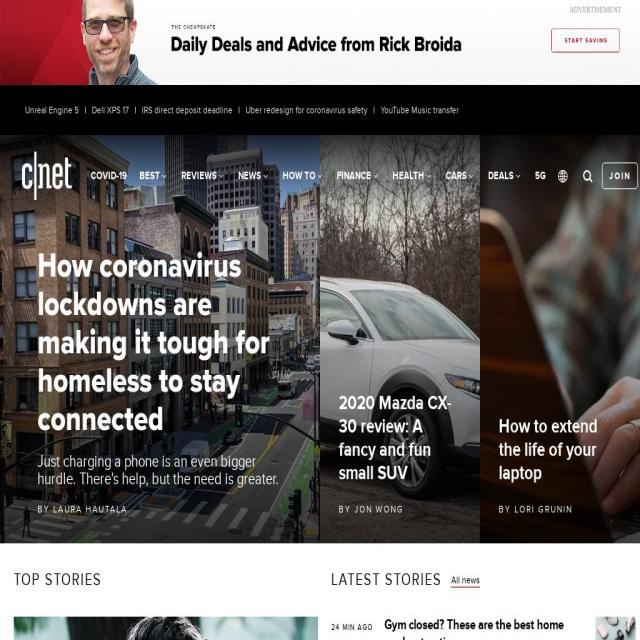button: (0, 135, 320, 544), (320, 135, 480, 544), (480, 135, 640, 544), (13, 616, 318, 640), (22, 152, 72, 200), (175, 155, 232, 197), (276, 155, 331, 197), (331, 155, 386, 197), (386, 155, 439, 197), (84, 156, 134, 197), (482, 155, 529, 197), (232, 155, 276, 197), (439, 155, 482, 197), (133, 155, 175, 197), (602, 162, 638, 190), (595, 616, 635, 640), (529, 156, 552, 197), (451, 572, 480, 588)
heading: (38, 248, 270, 440), (339, 392, 451, 486), (498, 415, 598, 486), (384, 616, 564, 640), (331, 568, 442, 592), (13, 568, 102, 592)
iframe: (0, 0, 640, 85)
image: (0, 135, 320, 544), (320, 135, 480, 544), (480, 135, 640, 544), (13, 616, 318, 640), (22, 152, 72, 200), (595, 616, 635, 640), (558, 169, 568, 183), (583, 169, 593, 183), (262, 174, 266, 183), (372, 174, 376, 183), (218, 174, 221, 183), (317, 174, 320, 183), (468, 174, 471, 183), (515, 174, 518, 183), (162, 174, 164, 183), (426, 174, 428, 183)
link: (245, 104, 368, 117), (142, 104, 232, 117), (381, 104, 458, 117), (53, 503, 128, 516), (514, 503, 572, 516), (25, 104, 79, 117), (354, 503, 404, 516), (92, 104, 129, 117)
text: (38, 453, 282, 489), (609, 170, 631, 263), (91, 168, 127, 184), (181, 169, 217, 183), (331, 620, 371, 632), (337, 169, 371, 183), (392, 169, 424, 183), (488, 169, 514, 183), (238, 169, 261, 183), (282, 169, 304, 183), (139, 169, 160, 183), (446, 169, 466, 183), (535, 168, 546, 184), (304, 169, 316, 183), (38, 503, 50, 516), (339, 503, 351, 516), (499, 503, 511, 516)
